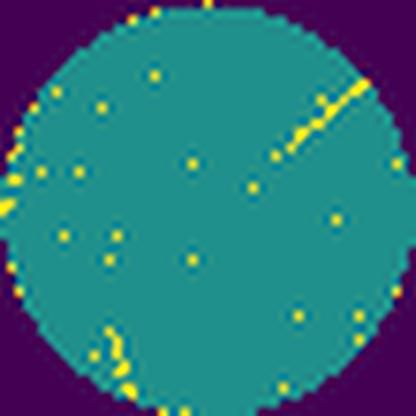Scratch: (270, 78, 372, 166)
